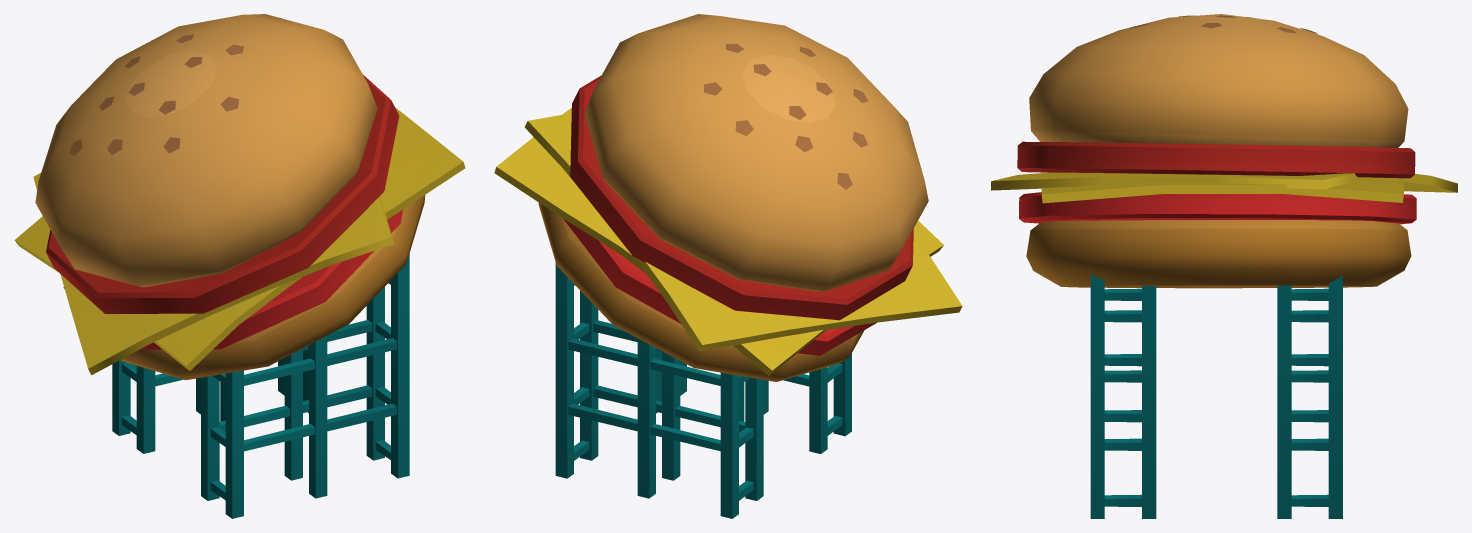
Rendered from BurgerSign_2_B.glb.
3 views of the same model, side by side, from view 1: azimuth 30°, elevation 25°; view 2: azimuth 150°, elevation 25°; view 3: azimuth 270°, elevation 25° (orthographic). The views are drawn at different scales.
Parts seen in each view (by area): view 1: BurgerSign_2_B; view 2: BurgerSign_2_B; view 3: BurgerSign_2_B.
Part boxes in pixels (box(x1,y1,x2,y2)): BurgerSign_2_B: box(14, 14, 465, 518); BurgerSign_2_B: box(494, 14, 962, 518); BurgerSign_2_B: box(991, 14, 1457, 518).
Size of the model in its own units: 3.58 by 4.02 by 3.88.
Materials: 2 (2 with a texture image).
